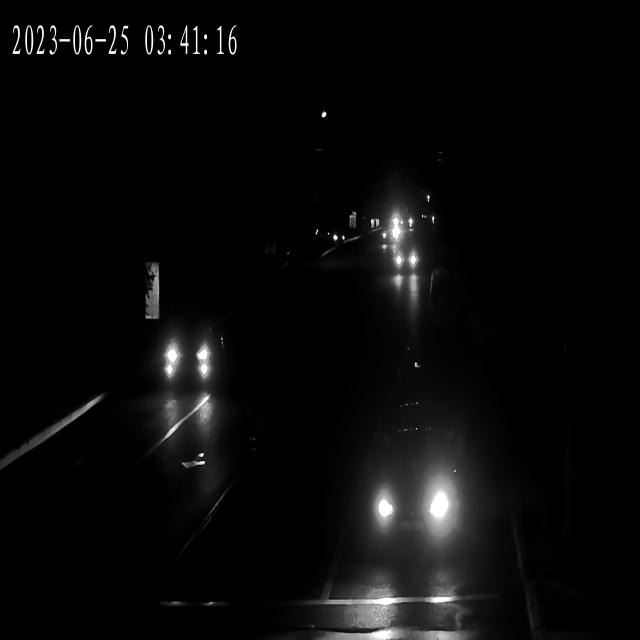Car: (360, 430, 462, 551), (160, 321, 223, 388), (392, 246, 422, 274), (377, 219, 402, 251)
